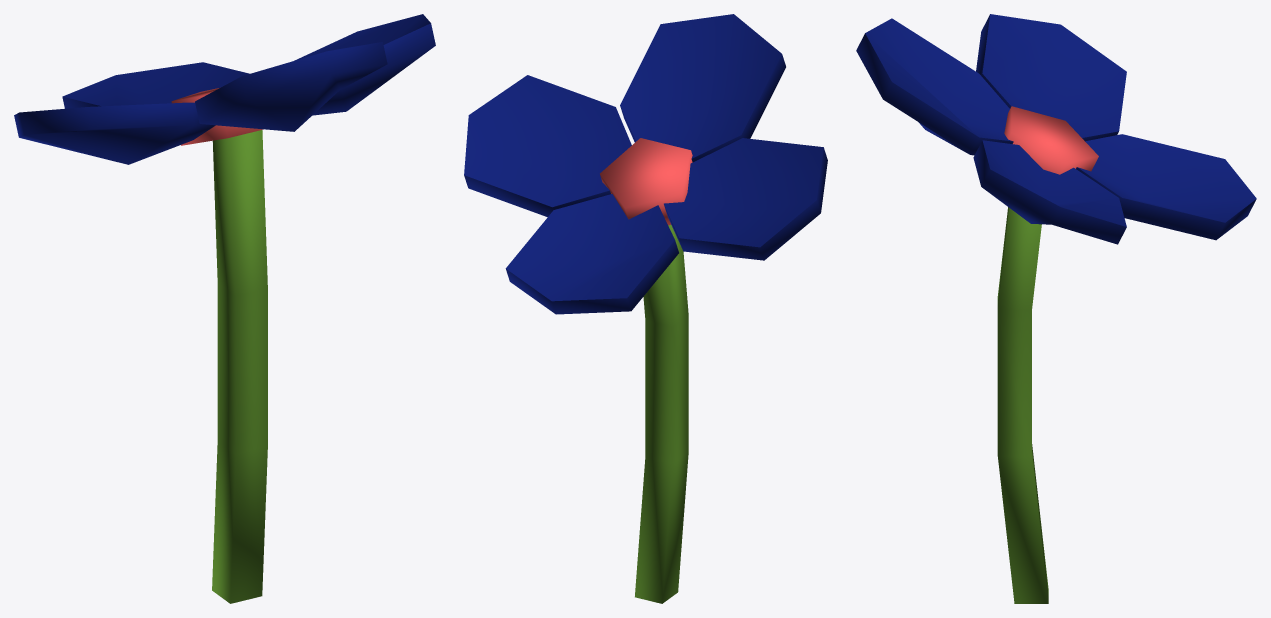
The model's file is cicek1.fbx.
The picture shows the model from 3 angles, left to right: view 1: azimuth 30°, elevation 25°; view 2: azimuth 150°, elevation 25°; view 3: azimuth 270°, elevation 25°; orthographic projection. The views are drawn at different scales.
Parts seen in each view (by area): view 1: Çiçek1; view 2: Çiçek1; view 3: Çiçek1.
Boxes of the visible parts, bbox=[...] form: Çiçek1: bbox=[14, 14, 435, 603]; Çiçek1: bbox=[464, 14, 827, 603]; Çiçek1: bbox=[856, 14, 1256, 603].
Size of the model in its own units: 25.33 by 36.44 by 23.48.
